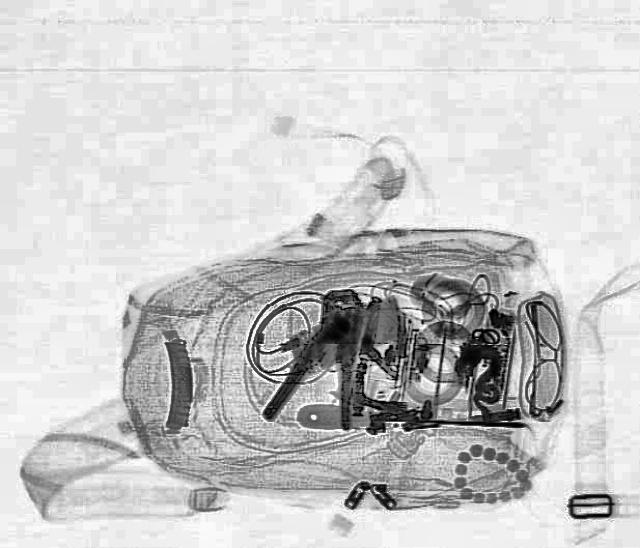Pliers: (261, 280, 379, 432)
